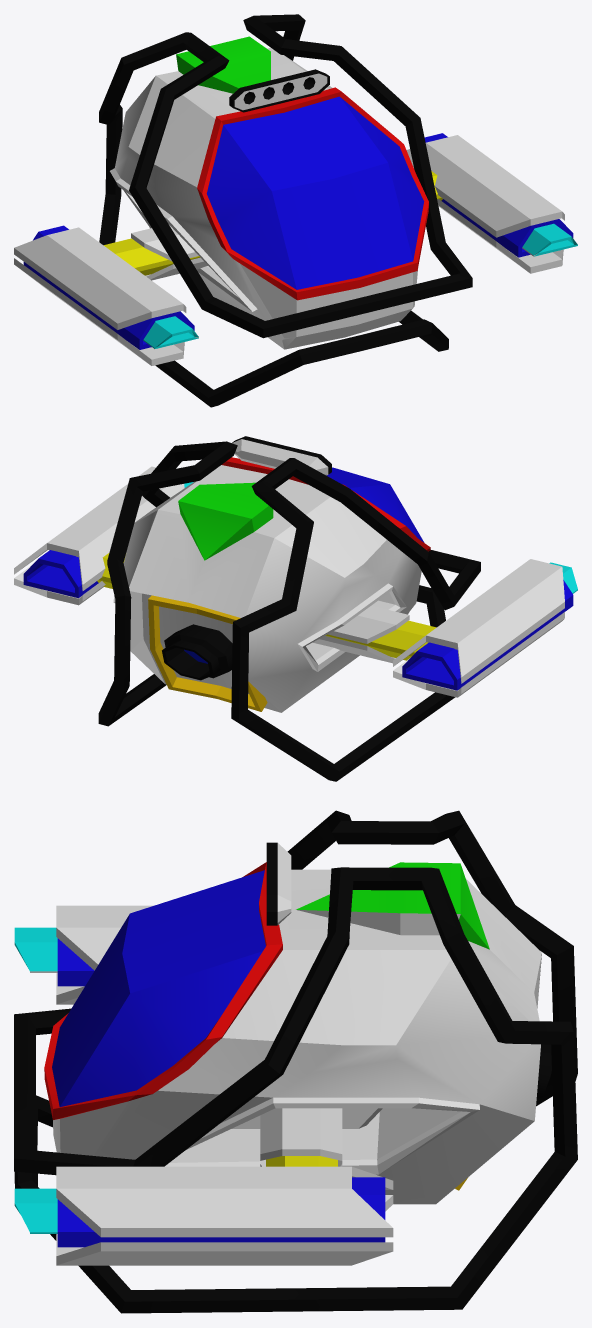
Rendered from drone5.FBX.
3 views of the same model, one above another, from view 1: azimuth 30°, elevation 25°; view 2: azimuth 150°, elevation 25°; view 3: azimuth 270°, elevation 25° (orthographic). The views are drawn at different scales.
Parts seen in each view (by area): view 1: NGon004; view 2: NGon004; view 3: NGon004.
Boxes of the visible parts, x1=… form: NGon004: x1=14, y1=14, x2=577, y2=407; NGon004: x1=14, y1=436, x2=577, y2=781; NGon004: x1=14, y1=810, x2=577, y2=1313.
Size of the model in its own units: 114 by 67.02 by 88.05.
